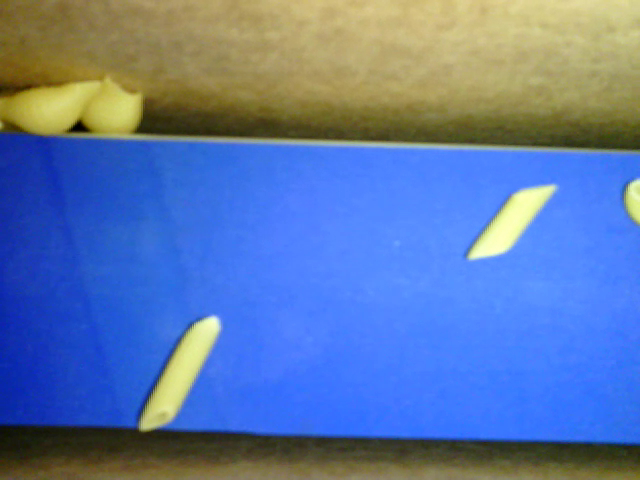elbow: (627, 176, 639, 230)
penne: (140, 313, 222, 426), (463, 182, 560, 264)
shell: (1, 78, 112, 135), (68, 75, 146, 135)
